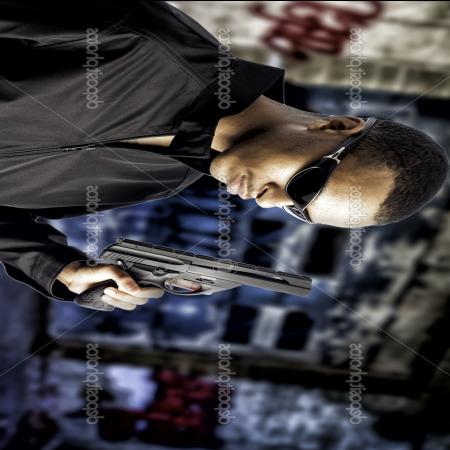Pistol: (80, 227, 311, 314)
